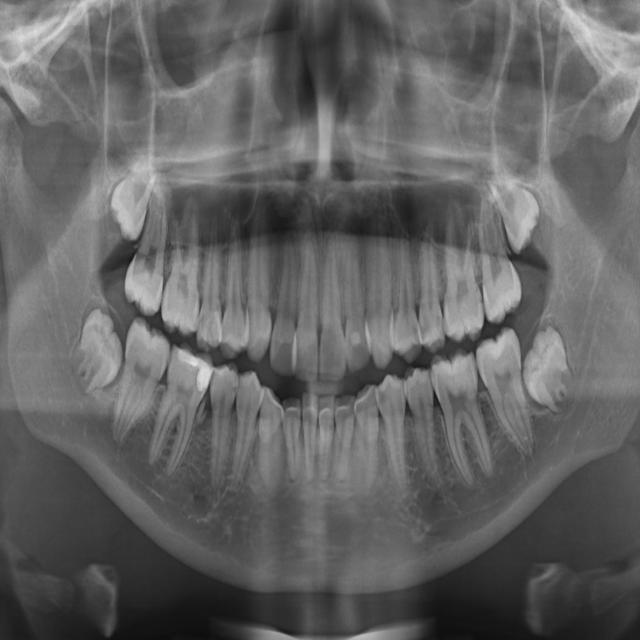CompositeResinRestoration: (195, 361, 212, 396), (178, 350, 198, 374), (349, 327, 361, 352), (212, 318, 222, 346)
DentalCaries: (408, 314, 420, 351), (196, 305, 209, 334), (376, 384, 387, 414), (434, 311, 444, 342), (418, 314, 427, 345), (474, 290, 483, 318), (228, 376, 237, 401)
